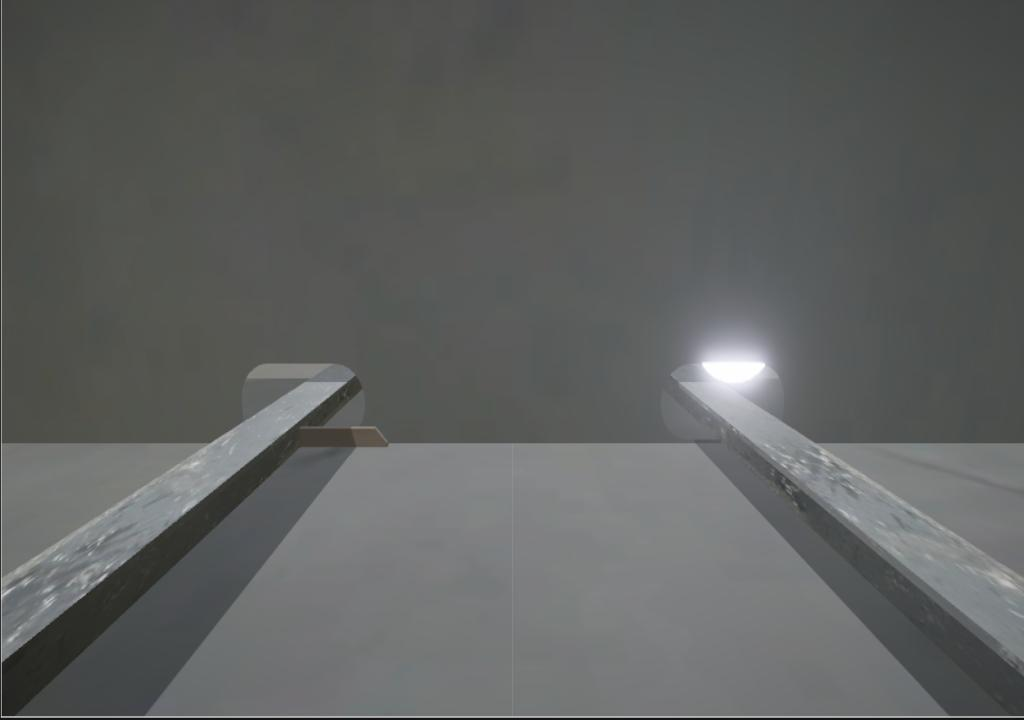fillet_yong_jeop_jang: (388, 435, 723, 447)
plate_CP03: (300, 426, 390, 448)
